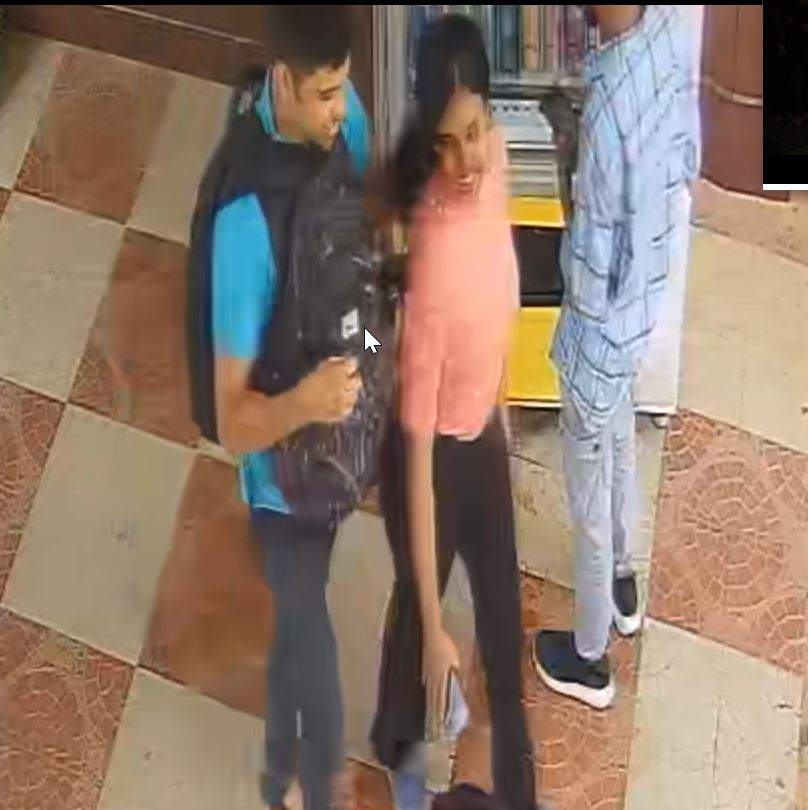intruder: (183, 5, 395, 810), (379, 24, 537, 810)
